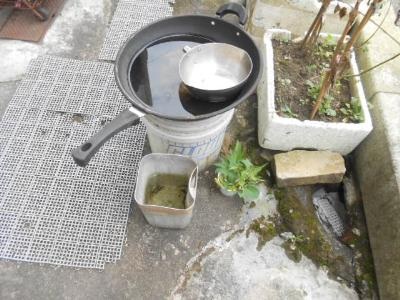bowl: (113, 14, 264, 121), (178, 42, 254, 103)
bucket: (137, 107, 238, 172), (133, 151, 200, 232)
